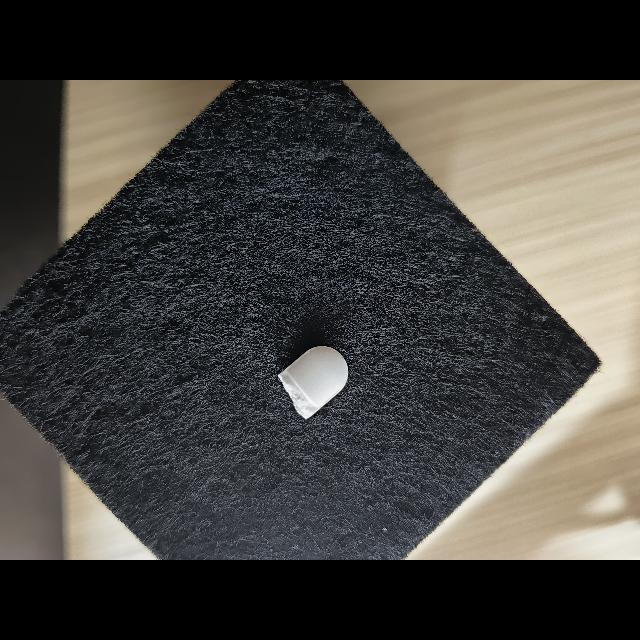Chipped Pill: (278, 346, 348, 419)
